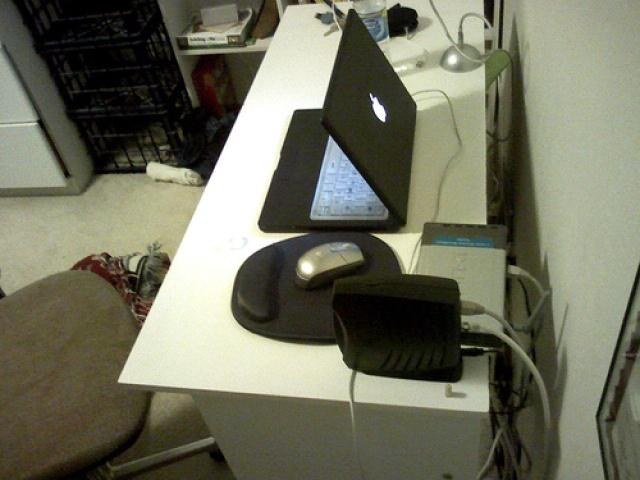Meja: (115, 0, 490, 427)
